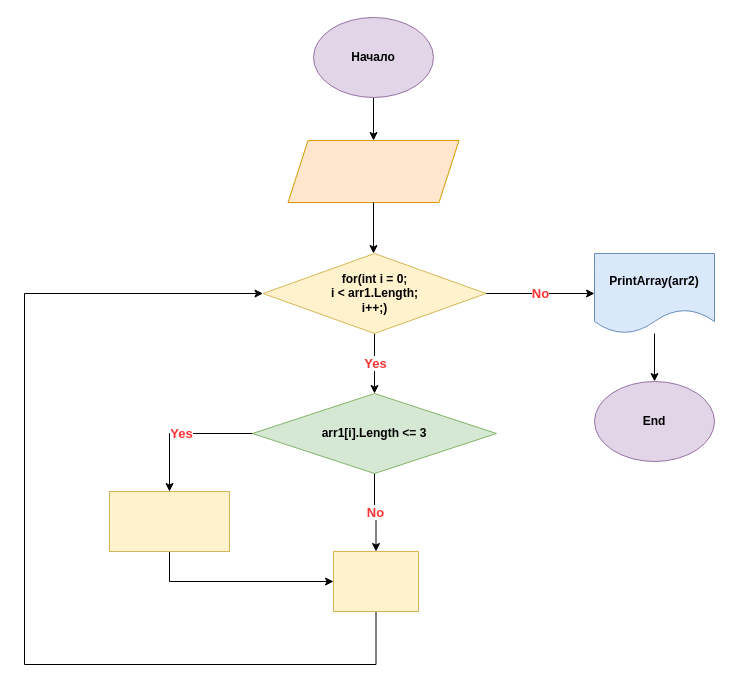
The diagram is 732 pixels wide and 690 high, and some of its shapes have lost their labels. Here are the shapes that lost their labels. From the top down, the box of each, then its label:
(287, 140, 459, 202): str[] arr1 str[] arr2 count = 0
(108, 490, 230, 552): arr2[count] = arr1[i]
(332, 550, 418, 612): Count ++
